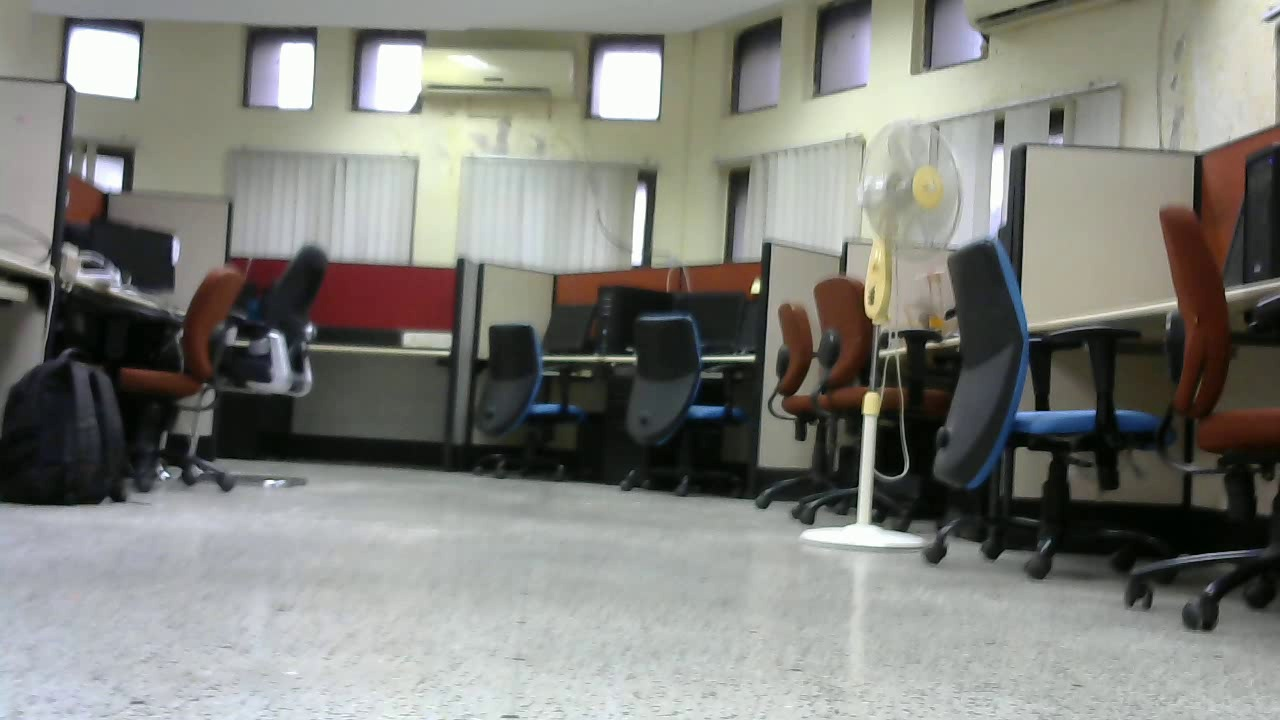chair: (923, 240, 1154, 574), (762, 272, 936, 523), (214, 235, 324, 491), (118, 269, 243, 473), (615, 311, 744, 493), (472, 310, 598, 480)
